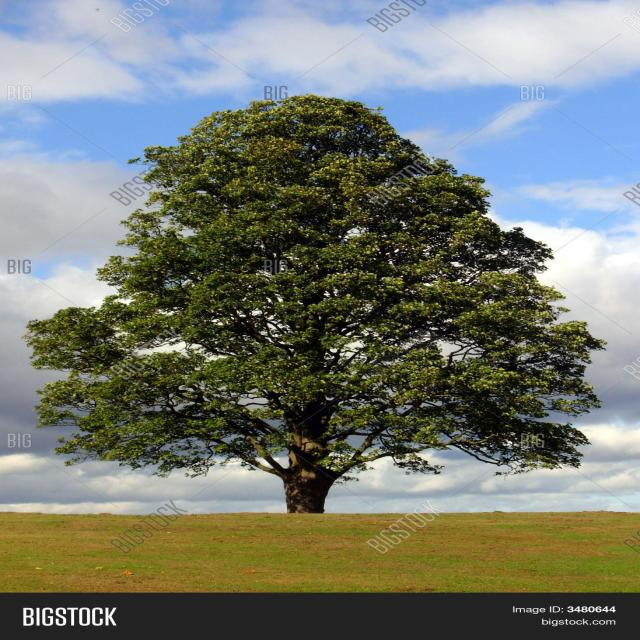roble: (24, 98, 605, 520)
